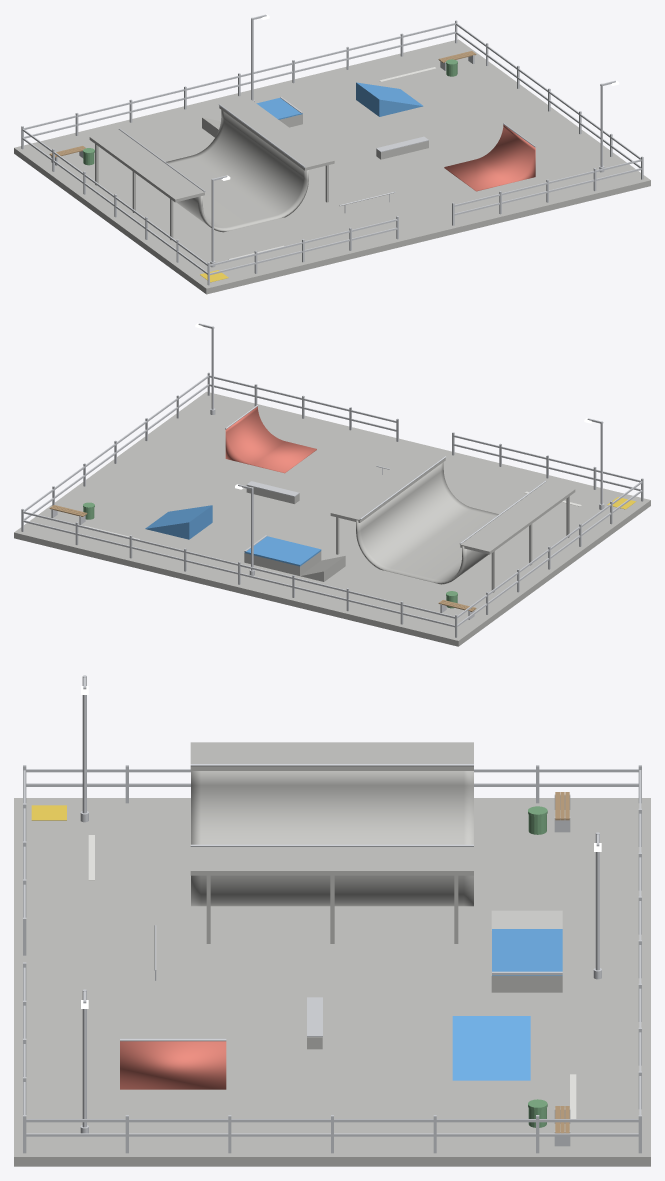
The model's file is skatepark-blender-v1.glb.
The picture shows the model from 3 angles, top to bottom: view 1: azimuth 30°, elevation 25°; view 2: azimuth 150°, elevation 25°; view 3: azimuth 270°, elevation 25°; orthographic projection. The views are drawn at different scales.
Parts seen in each view (by area): view 1: Ground, Halfpipe, Fence, QuarterPipe, Launch, Funbox, Lamps, GrindLedge, Benches; view 2: Ground, Halfpipe, Fence, QuarterPipe, Funbox, Launch, Lamps, GrindLedge, Benches; view 3: Ground, Halfpipe, Fence, Funbox, QuarterPipe, Launch, Lamps, Benches, Markings, TrashBins, GrindLedge.
Boxes of the visible parts, bbox=[...] form: Ground: bbox=[14, 39, 650, 294]; Halfpipe: bbox=[89, 98, 334, 240]; Fence: bbox=[21, 20, 643, 285]; QuarterPipe: bbox=[444, 123, 535, 191]; Launch: bbox=[356, 82, 423, 116]; Funbox: bbox=[202, 97, 302, 137]; Lamps: bbox=[210, 14, 619, 267]; GrindLedge: bbox=[376, 136, 428, 159]; Benches: bbox=[49, 51, 476, 165]; Ground: bbox=[14, 391, 650, 646]; Halfpipe: bbox=[330, 450, 575, 592]; Fence: bbox=[21, 372, 643, 637]; QuarterPipe: bbox=[225, 404, 316, 473]; Funbox: bbox=[244, 535, 345, 581]; Launch: bbox=[145, 505, 212, 539]; Lamps: bbox=[195, 323, 604, 575]; GrindLedge: bbox=[246, 481, 299, 503]; Benches: bbox=[49, 505, 476, 619]; Ground: bbox=[14, 798, 650, 1166]; Halfpipe: bbox=[190, 742, 473, 943]; Fence: bbox=[23, 765, 641, 1153]; Funbox: bbox=[491, 910, 562, 992]; QuarterPipe: bbox=[120, 1038, 226, 1089]; Launch: bbox=[452, 1016, 530, 1080]; Lamps: bbox=[80, 675, 601, 1133]; Benches: bbox=[554, 792, 570, 1146]; Markings: bbox=[31, 805, 576, 1118]; TrashBins: bbox=[528, 806, 547, 1127]; GrindLedge: bbox=[307, 997, 322, 1049].
Size of the model in its own units: 24 by 4.8 by 18.
